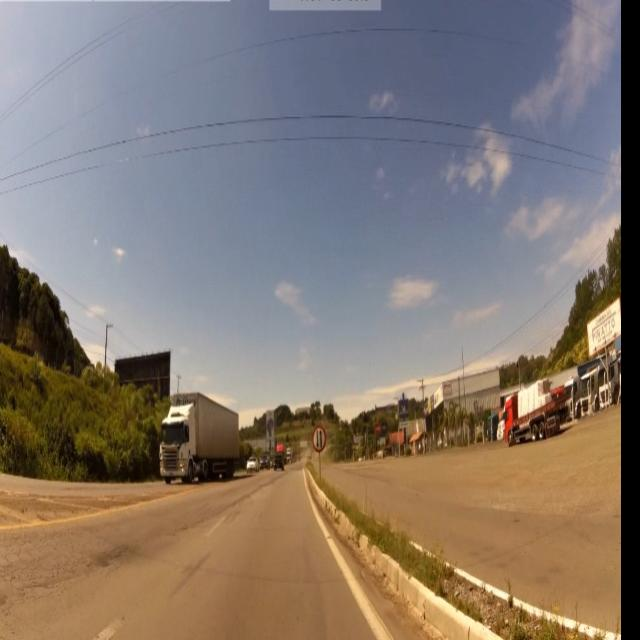R-28: (312, 425, 326, 456)
